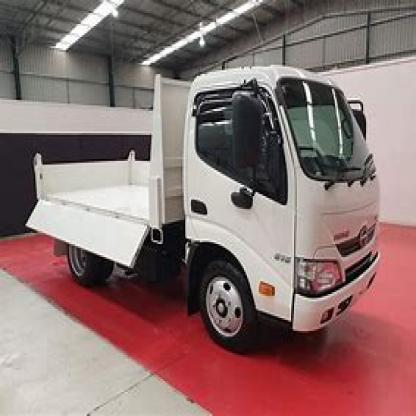dump_truck: (27, 55, 388, 368)
